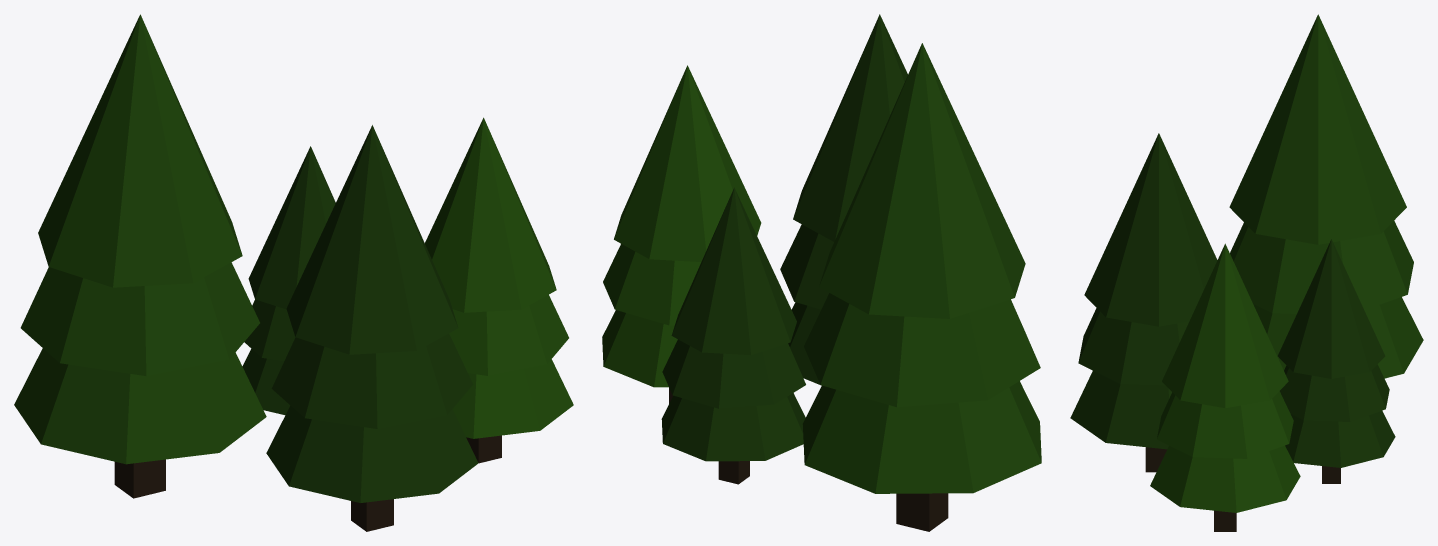
Rendered from forest2.fbx.
The picture shows the model from 3 angles, left to right: view 1: azimuth 30°, elevation 25°; view 2: azimuth 150°, elevation 25°; view 3: azimuth 270°, elevation 25°; orthographic projection. The views are drawn at different scales.
Visible parts, largest first — view 1: Tree; view 2: Tree; view 3: Tree.
Boxes of the visible parts, x1=… form: Tree: x1=14, y1=14, x2=573, y2=531; Tree: x1=602, y1=14, x2=1041, y2=531; Tree: x1=1070, y1=14, x2=1423, y2=531.
Size of the model in its own units: 346 by 330 by 266.
